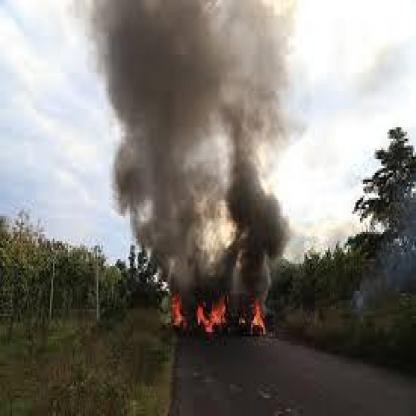fire: (154, 269, 276, 339)
smoke: (86, 4, 288, 256)
